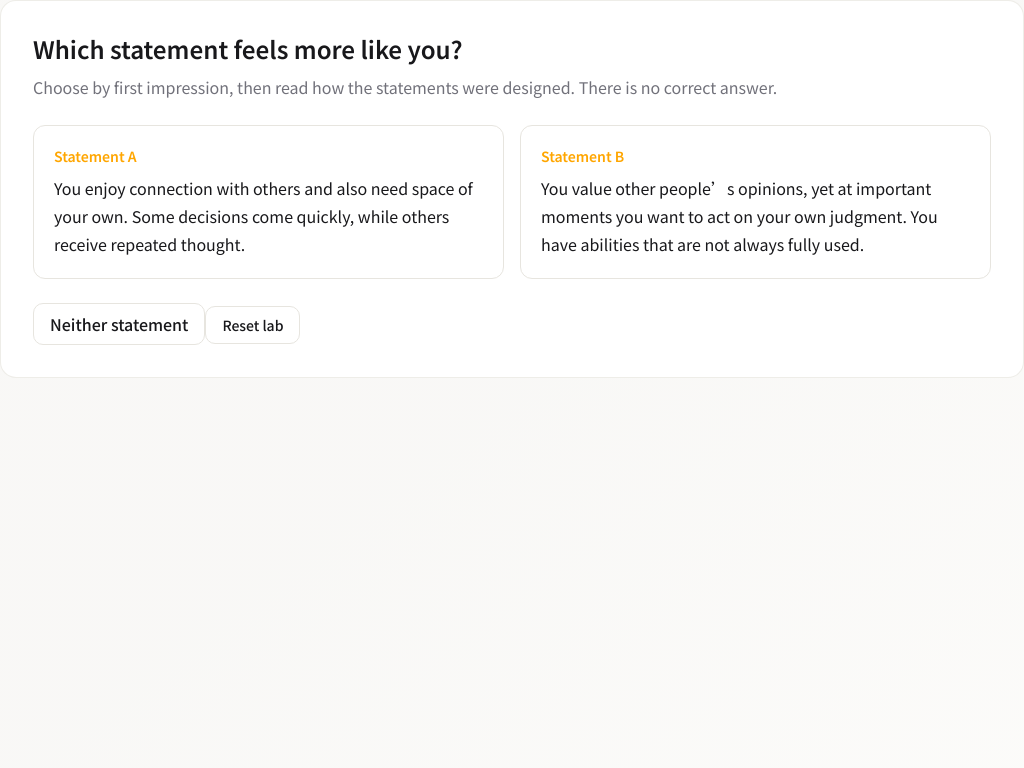
Test: BarnumLab › reveals the explanation only after a statement or neither is selected
Click the button "Neither statement" at x=119, y=324, box left=33, top=303, right=205, bottom=345
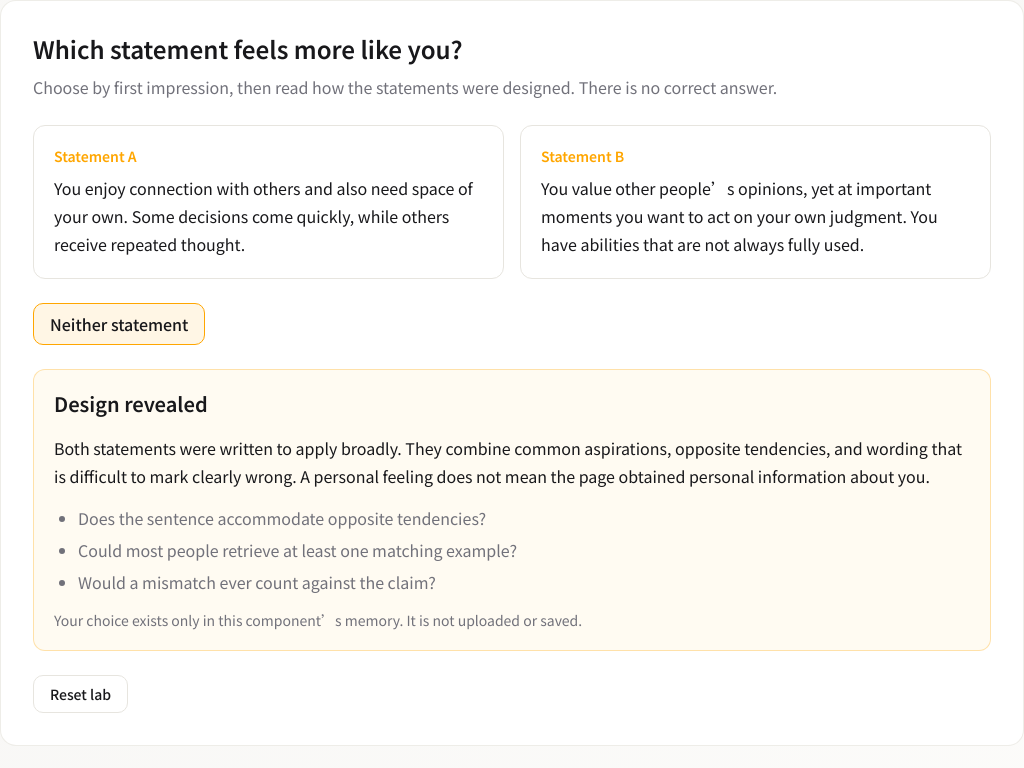
Now the message shows "Both statements were written to apply broadly", box left=54, top=436, right=962, bottom=488
